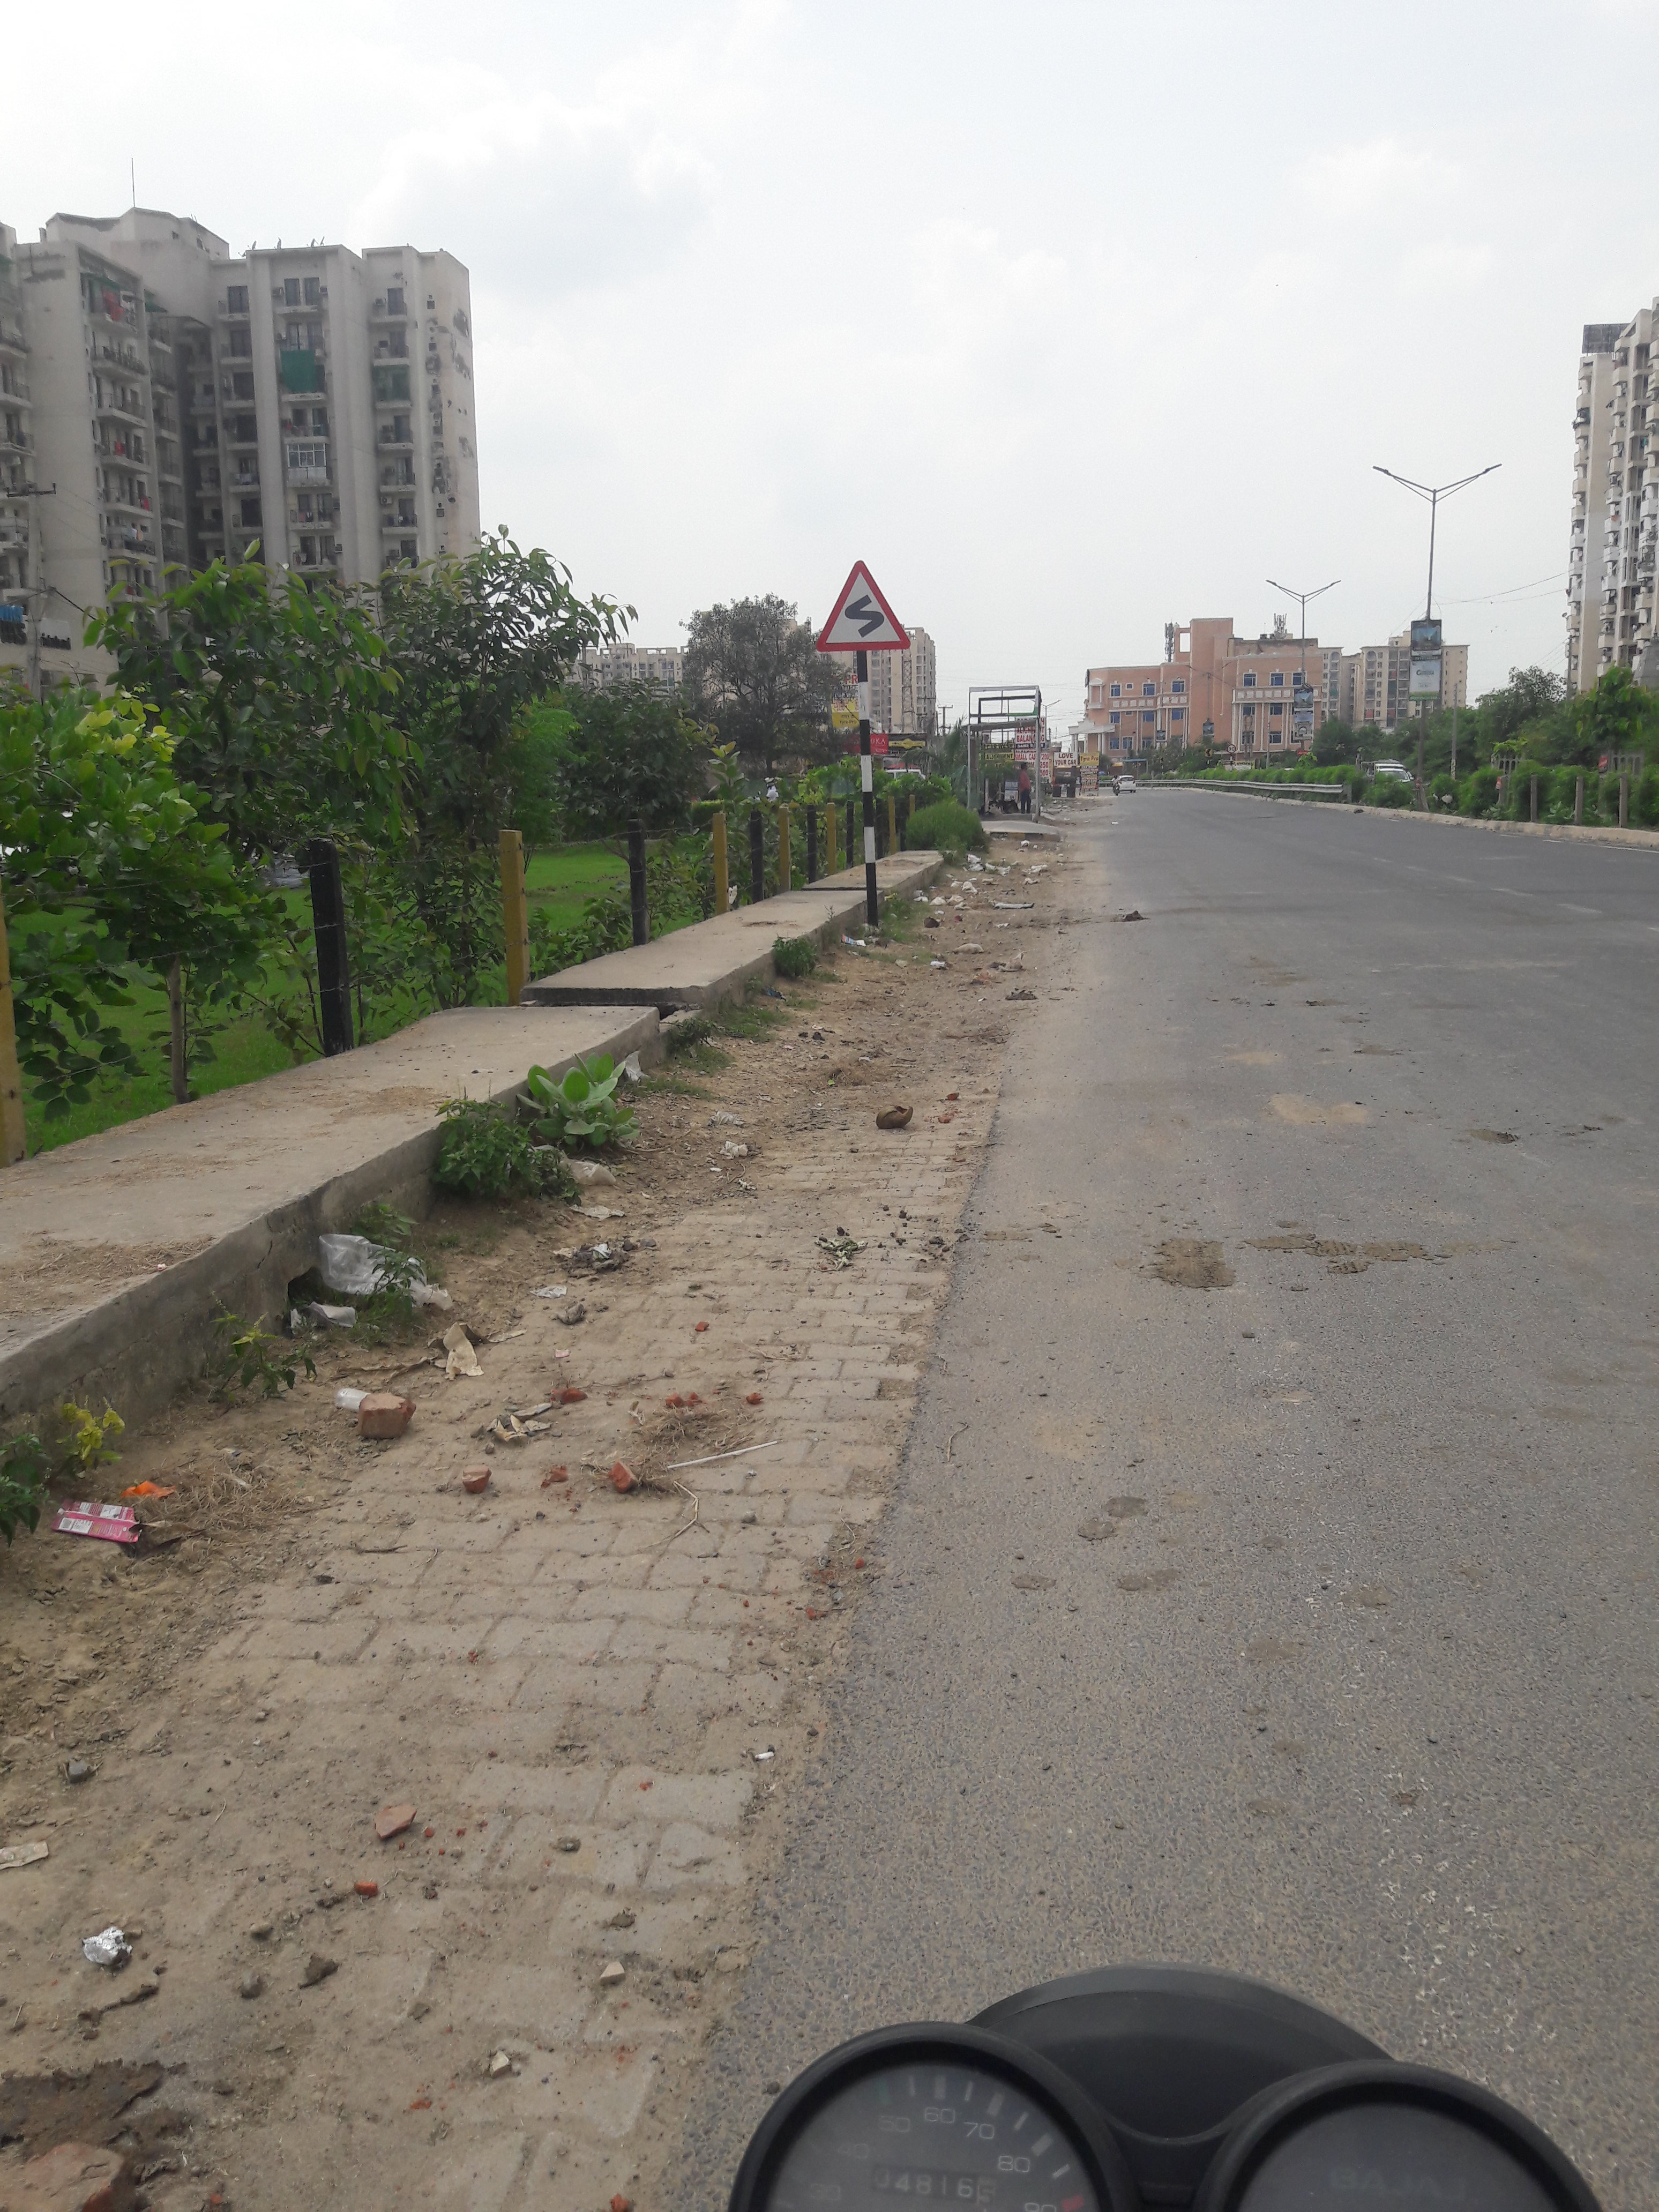traffic_sign: (814, 559, 911, 650)
